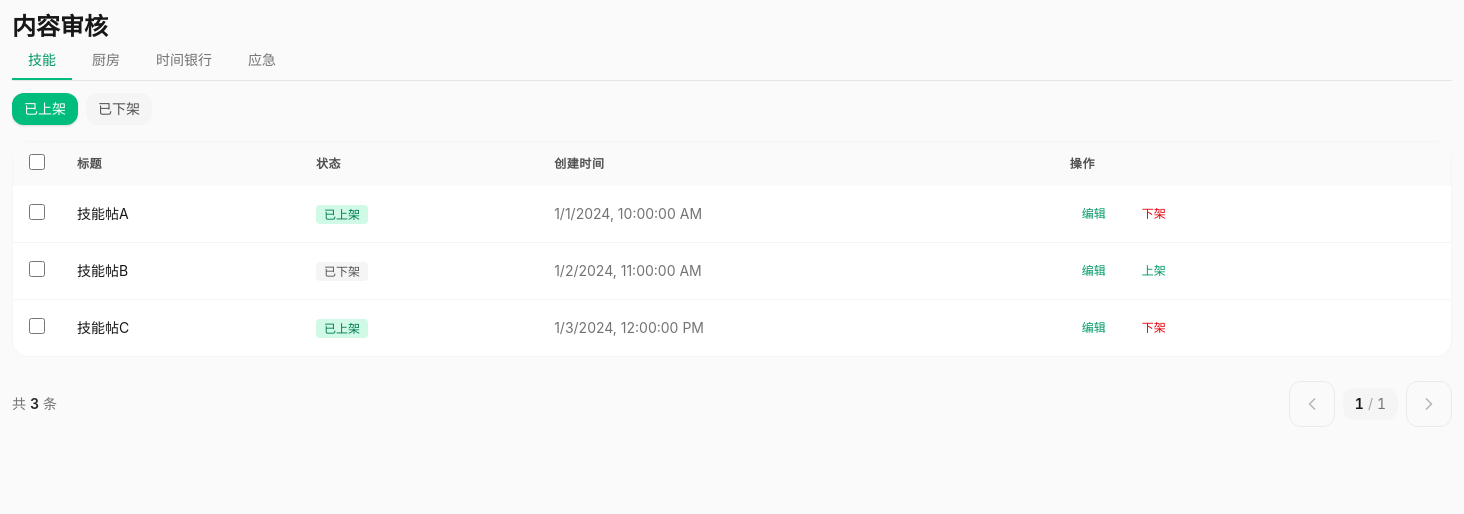
Test: ContentReview 批量操作 › 单选一条内容后显示批量操作工具栏与选中数量
expect the text "技能帖A" is shown: met, box [61,186,300,242]
expect the text "已选择" is not shown: met
# 勾选第一条内容（桌面表格中的 checkbox）
Step 1. Click the checkbox named "选择 技能帖A" → (37, 212), box [29,204,45,220]
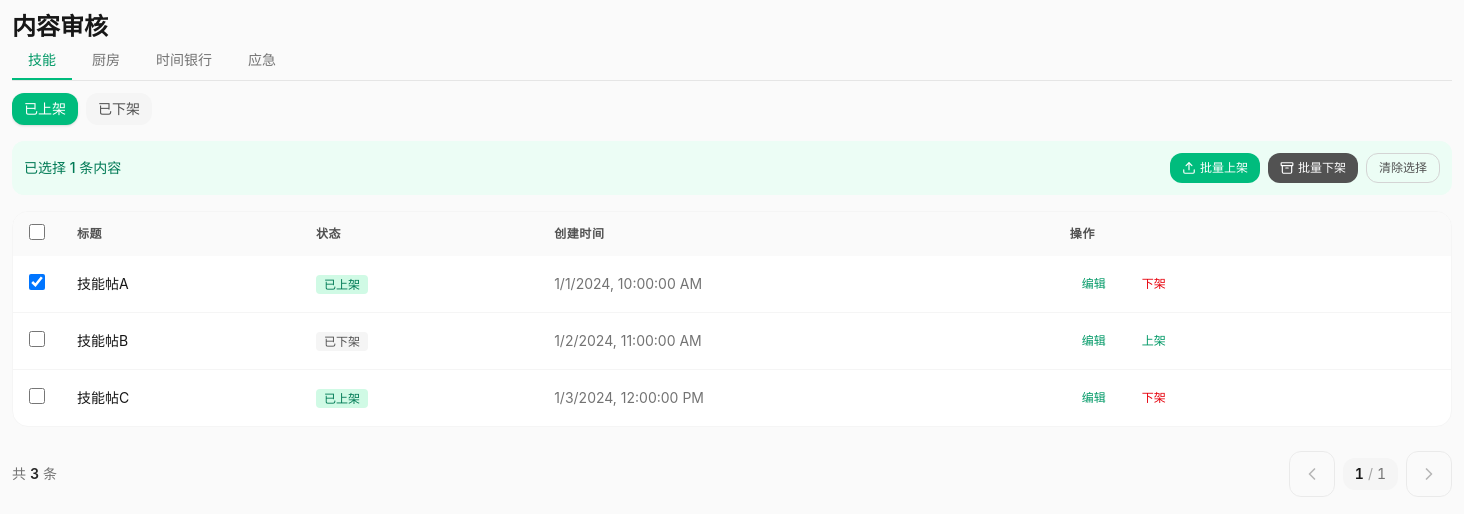
expect the text "已选择 1 条内容" is shown: met, box [24,158,121,178]
